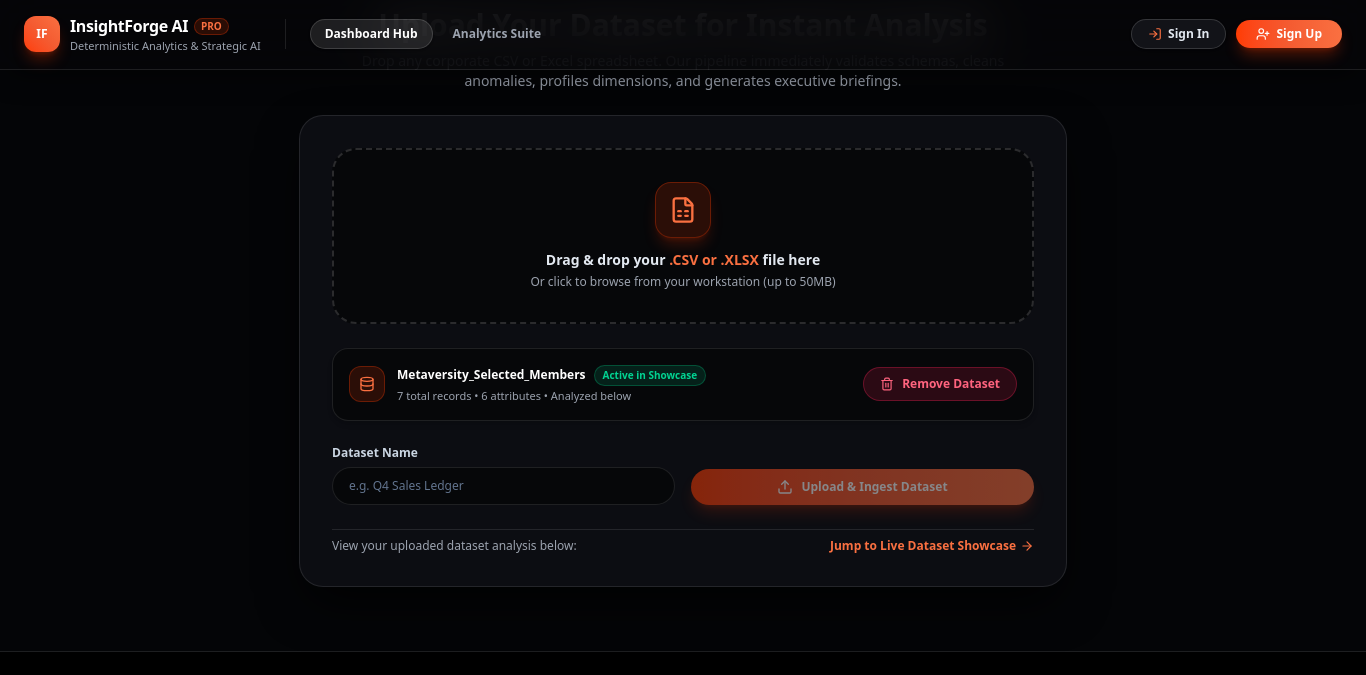
HomePage & Interactive Analytics Dashboard › renders Remove Dataset option below drag and drop, and removes dataset on click
The image size is (1366, 675).
(page scrolled)
Click the button "Remove Dataset".
click(940, 384)  # box x1=863 y1=367 x2=1017 y2=401
(page scrolled)
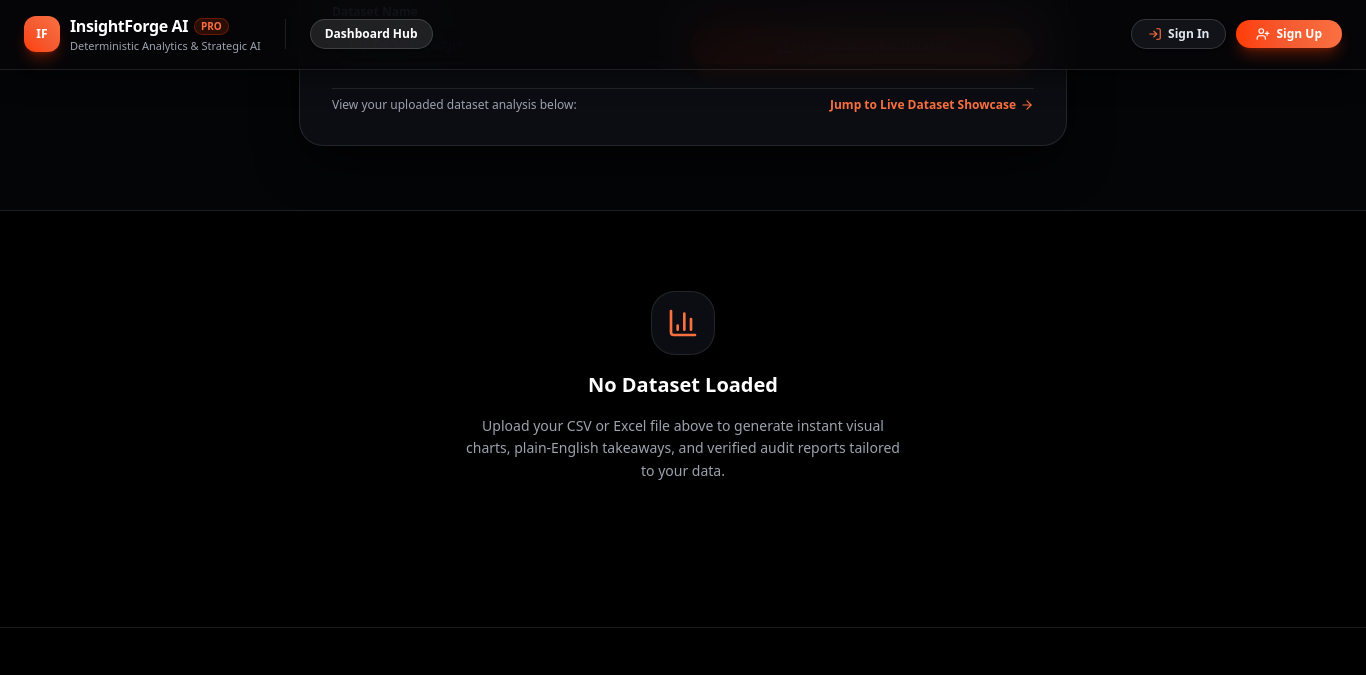
Check: the heading "No Dataset Loaded" is shown, box x1=588 y1=370 x2=778 y2=398
